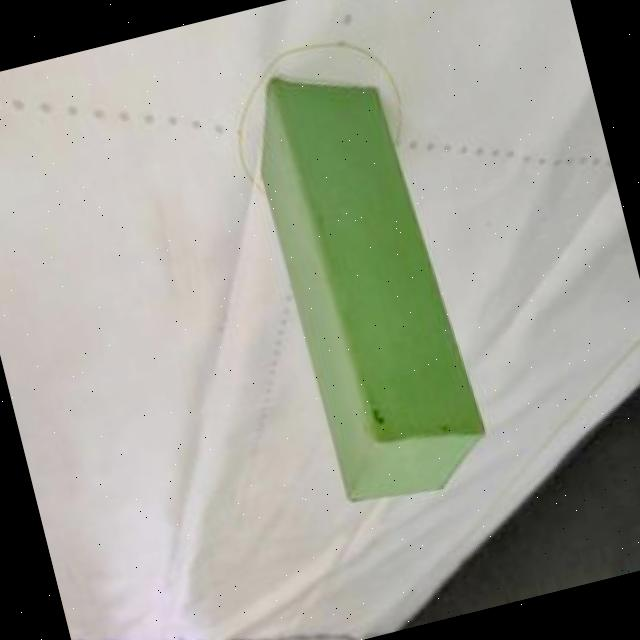greenbox: (238, 47, 498, 516)
